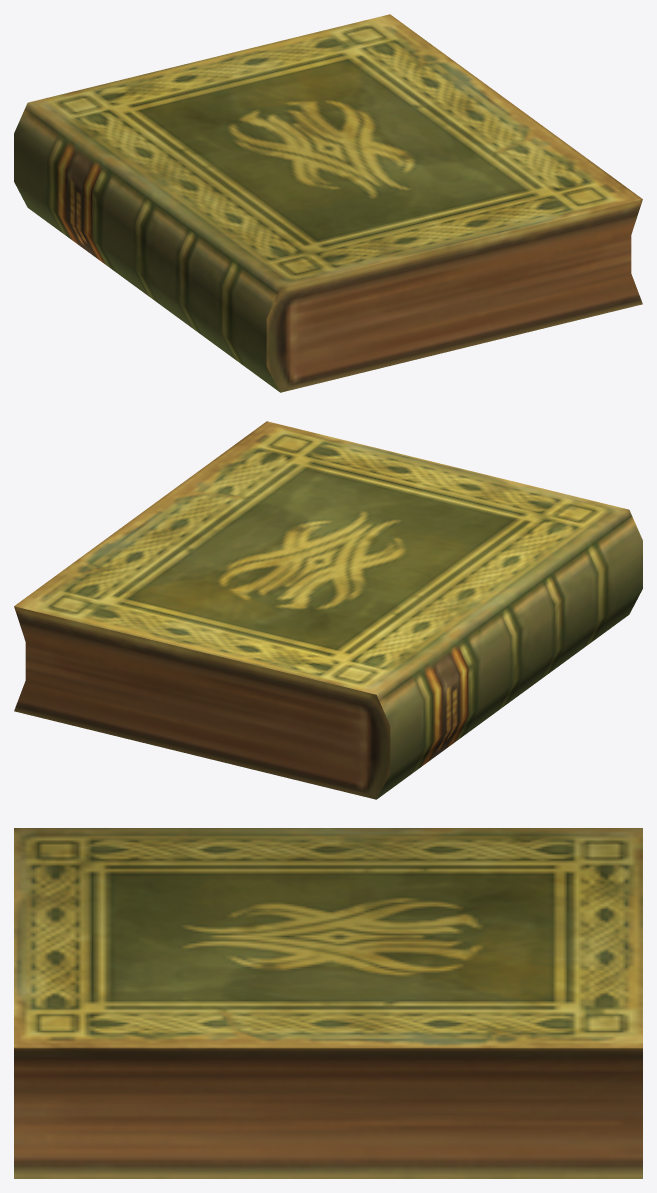
Rendered from Book_02.FBX.
The picture shows the model from 3 angles, top to bottom: view 1: azimuth 30°, elevation 25°; view 2: azimuth 150°, elevation 25°; view 3: azimuth 270°, elevation 25°; orthographic projection. The views are drawn at different scales.
Visible parts, largest first — view 1: Book_02; view 2: Book_02; view 3: Book_02.
Part boxes in pixels (x1,y1,x2,y2): Book_02: [14, 14, 642, 392]; Book_02: [14, 421, 642, 799]; Book_02: [14, 828, 642, 1178].
Bounding box in the file's own units: 26.62 × 30.99 × 7.1.
